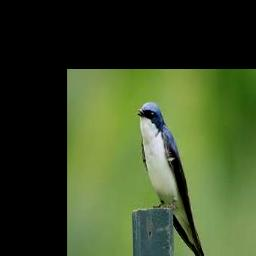Swallow: (136, 102, 205, 256)
